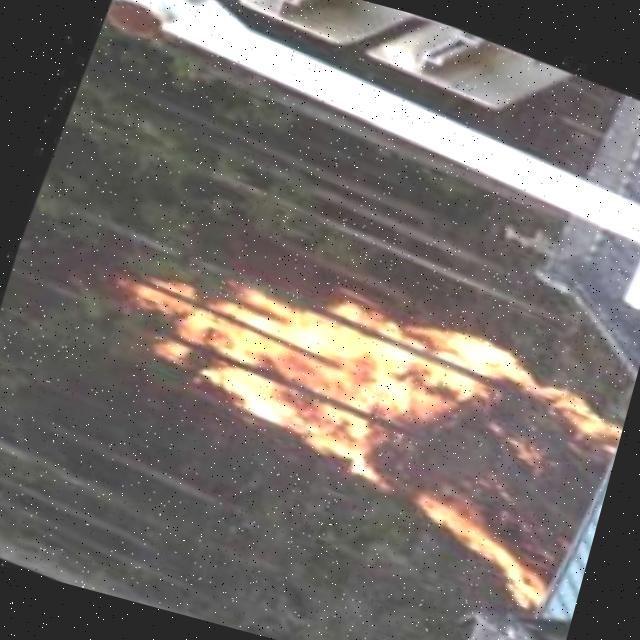fire: (57, 218, 632, 630)
